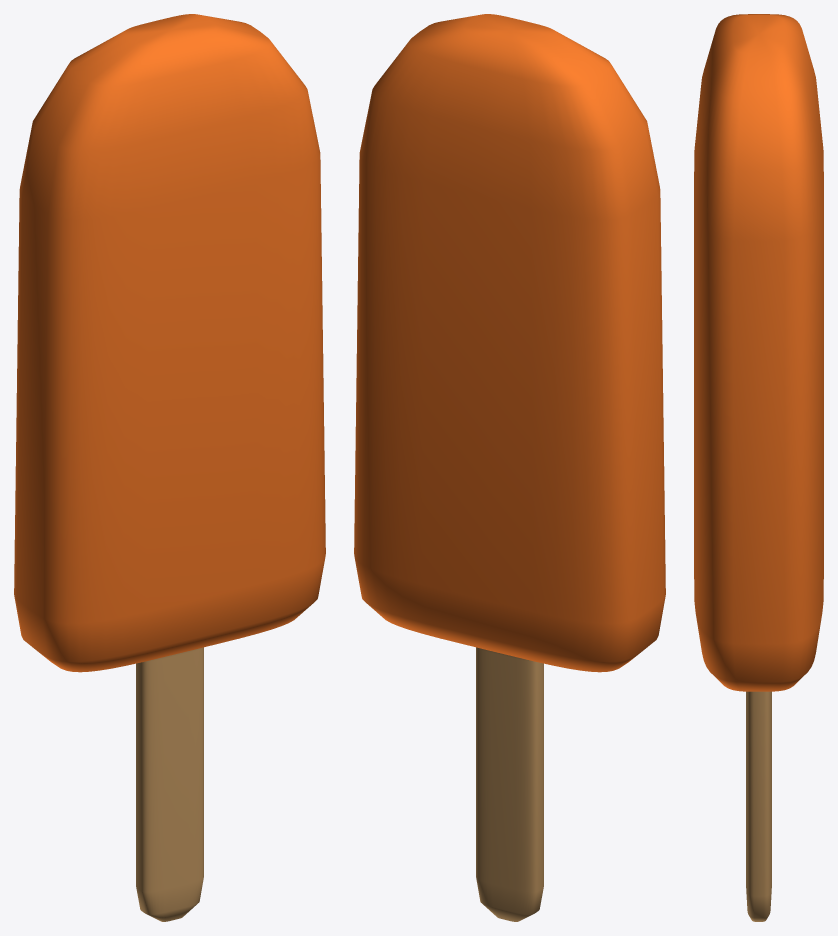
File: NEW_RECOVERY_015_LOD0.fbx
3 renders of one model, left to right at view 1: azimuth 30°, elevation 25°; view 2: azimuth 150°, elevation 25°; view 3: azimuth 270°, elevation 25°, orthographic.
Parts seen in each view (by area): view 1: Popsicle; view 2: Popsicle; view 3: Popsicle.
Part boxes in pixels (x1,y1,x2,y2): Popsicle: (14, 14, 325, 921); Popsicle: (354, 14, 665, 921); Popsicle: (694, 14, 823, 921).
Size of the model in its own units: 5 by 2 by 15.
